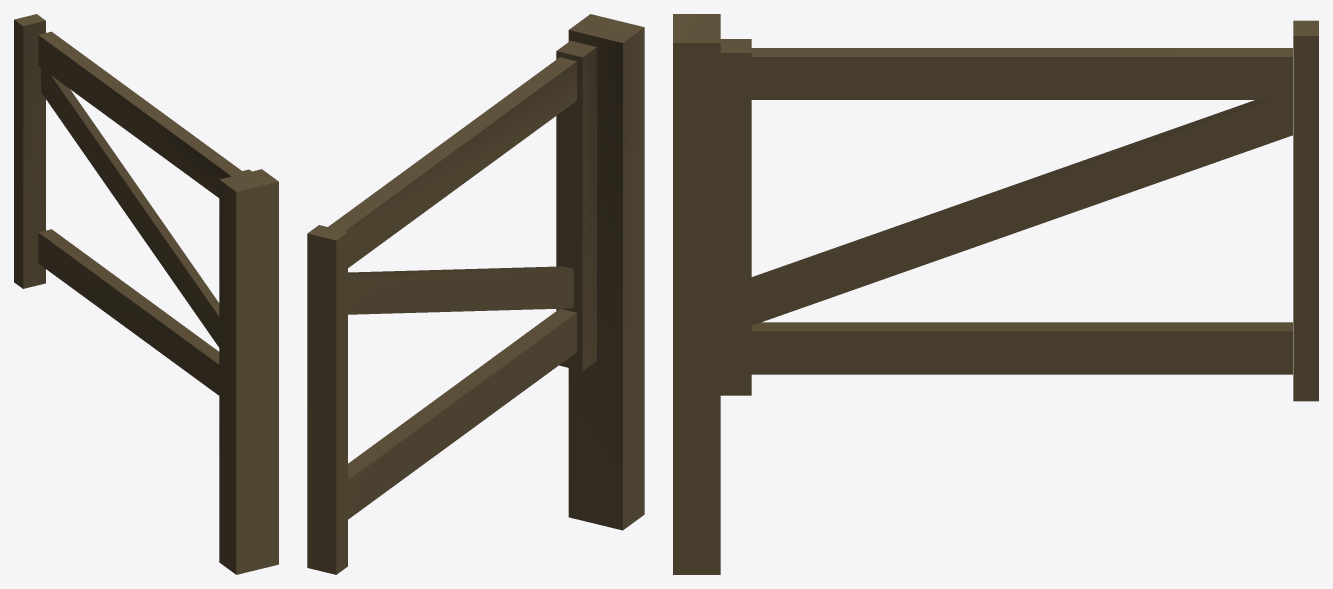
The model's file is Wood_FenceThinGateWide1.fbx.
3 renders of one model, left to right at view 1: azimuth 30°, elevation 25°; view 2: azimuth 150°, elevation 25°; view 3: azimuth 270°, elevation 25°, orthographic. The views are drawn at different scales.
Visible parts, largest first — view 1: Wood_FenceThinGateWide1; view 2: Wood_FenceThinGateWide1; view 3: Wood_FenceThinGateWide1.
Boxes of the visible parts, x1,y1,x2,y2 form: Wood_FenceThinGateWide1: [14, 14, 278, 574]; Wood_FenceThinGateWide1: [307, 14, 644, 574]; Wood_FenceThinGateWide1: [673, 14, 1318, 574].
Bounding box in the file's own units: 0.0103 × 0.0882 × 0.097.
